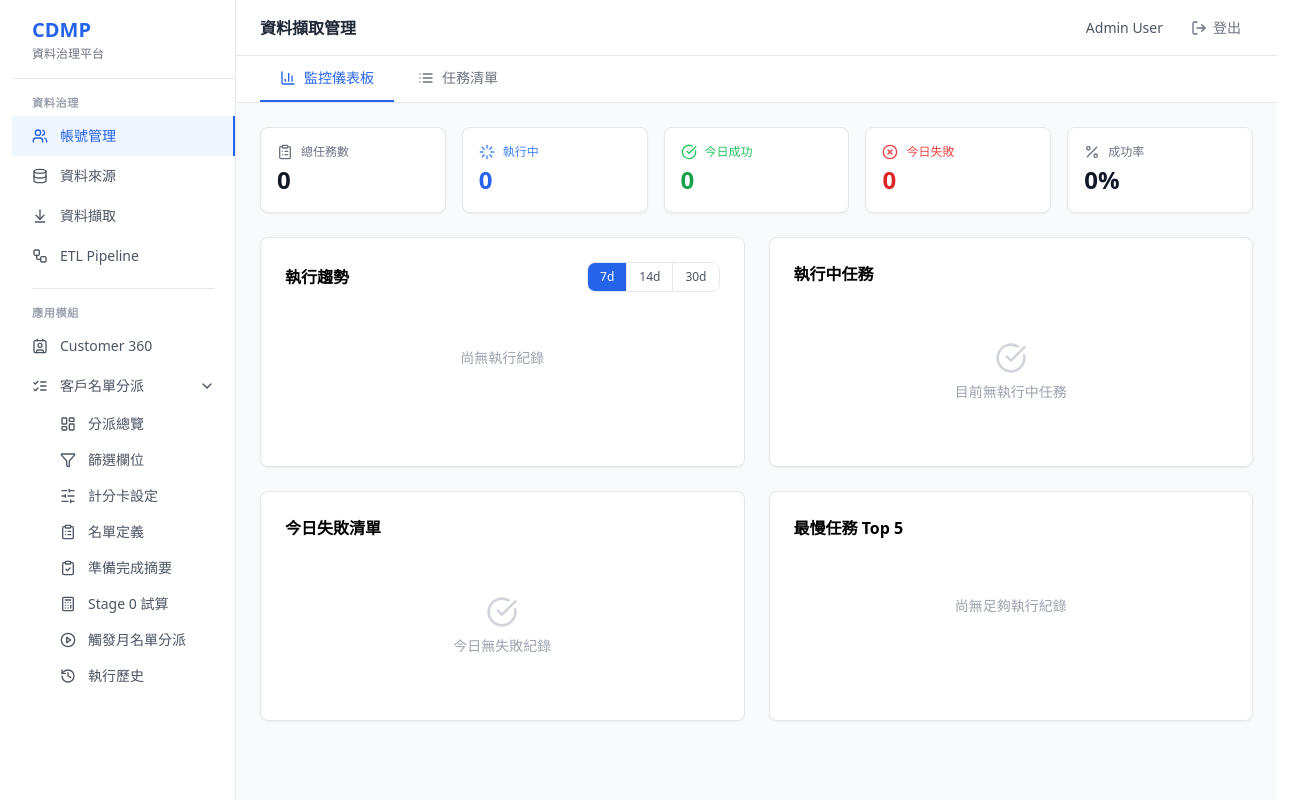
Test: F021: 立即執行／重新執行擷取任務 › 進度條 › should show progress bar for running task
Click the tab with test id "tab-list". click: [458, 79]
box: [398,56,518,102]
Wait 1350 ms
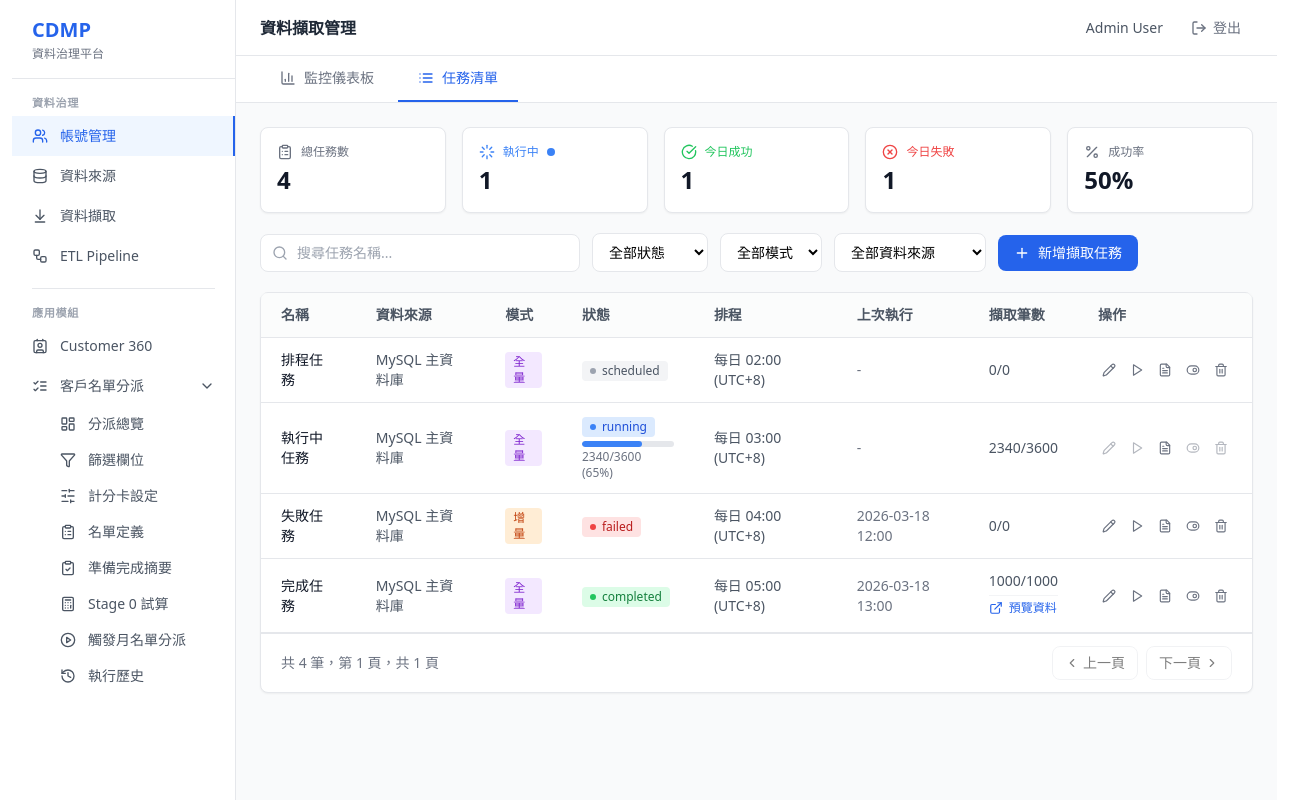
Check: the element with test id "progress-bar-et-running" reads "2340/3600 (65%)", box [582,441,674,481]
